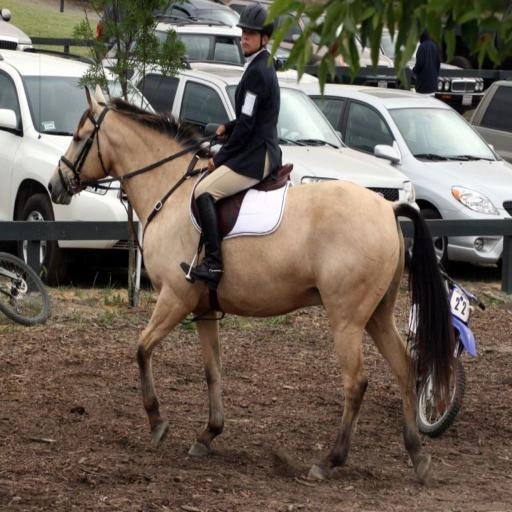horse: (46, 80, 464, 490)
